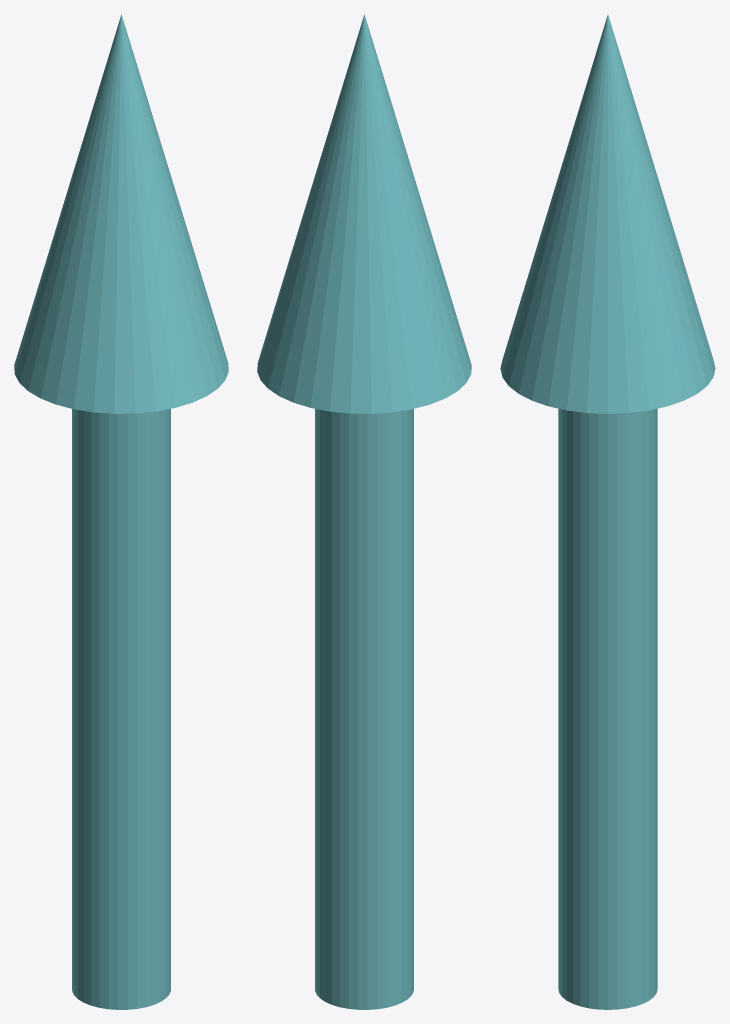
File: force_arrow.glb
3 views of the same model, side by side, from view 1: azimuth 30°, elevation 25°; view 2: azimuth 150°, elevation 25°; view 3: azimuth 270°, elevation 25° (orthographic).
Parts seen in each view (by area): view 1: Cylinder; view 2: Cylinder; view 3: Cylinder.
Part boxes in pixels (bbox=[...]): Cylinder: bbox=[14, 14, 228, 1009]; Cylinder: bbox=[257, 14, 471, 1009]; Cylinder: bbox=[500, 15, 715, 1009].
Bounding box in the file's own units: 0.04 × 0.2 × 0.04.
